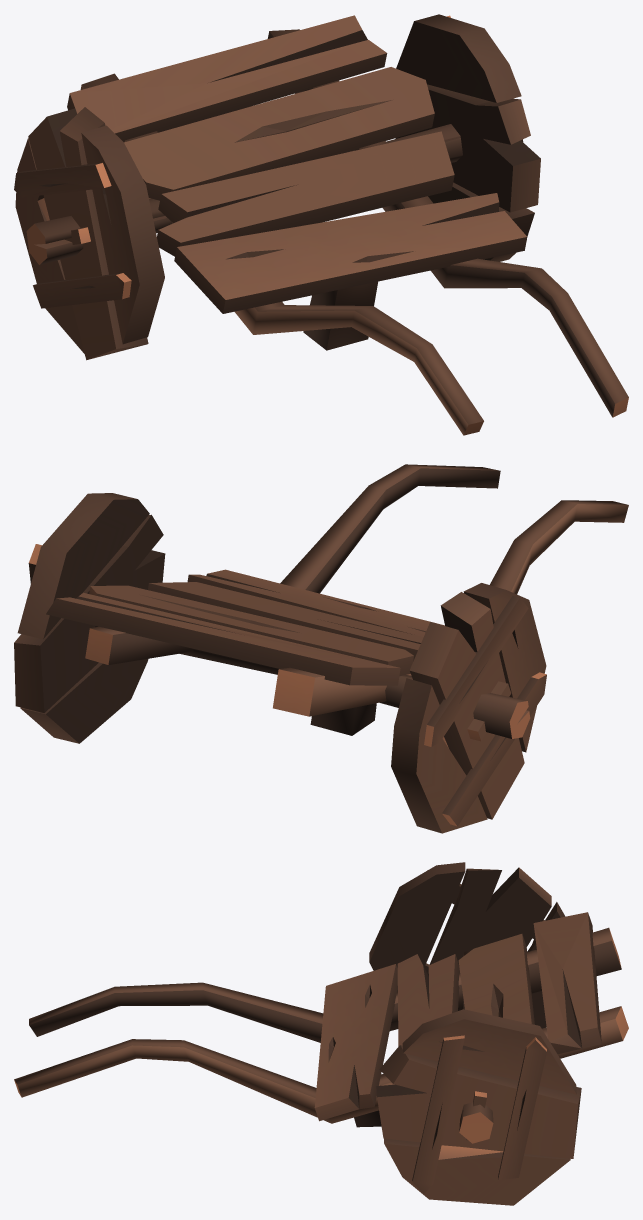
File: Cart_1A.fbx
The picture shows the model from 3 angles, top to bottom: view 1: azimuth 30°, elevation 25°; view 2: azimuth 150°, elevation 25°; view 3: azimuth 270°, elevation 25°; orthographic projection. The views are drawn at different scales.
Parts seen in each view (by area): view 1: Cart_1A_Body, Cart_1A_Wheel.R, Cart_1A_Wheel.L; view 2: Cart_1A_Body, Cart_1A_Wheel.R, Cart_1A_Wheel.L; view 3: Cart_1A_Body, Cart_1A_Wheel.L, Cart_1A_Wheel.R.
Boxes of the visible parts, x1=… form: Cart_1A_Body: x1=26, y1=15, x2=628, y2=435; Cart_1A_Wheel.R: x1=14, y1=107, x2=164, y2=360; Cart_1A_Wheel.L: x1=395, y1=14, x2=540, y2=261; Cart_1A_Body: x1=46, y1=464, x2=628, y2=741; Cart_1A_Wheel.R: x1=391, y1=583, x2=546, y2=833; Cart_1A_Wheel.L: x1=14, y1=493, x2=165, y2=743; Cart_1A_Body: x1=14, y1=912, x2=628, y2=1143; Cart_1A_Wheel.L: x1=376, y1=1009, x2=581, y2=1205; Cart_1A_Wheel.R: x1=369, y1=862, x2=565, y2=1028.
Size of the model in its own units: 175 by 81.46 by 237.
